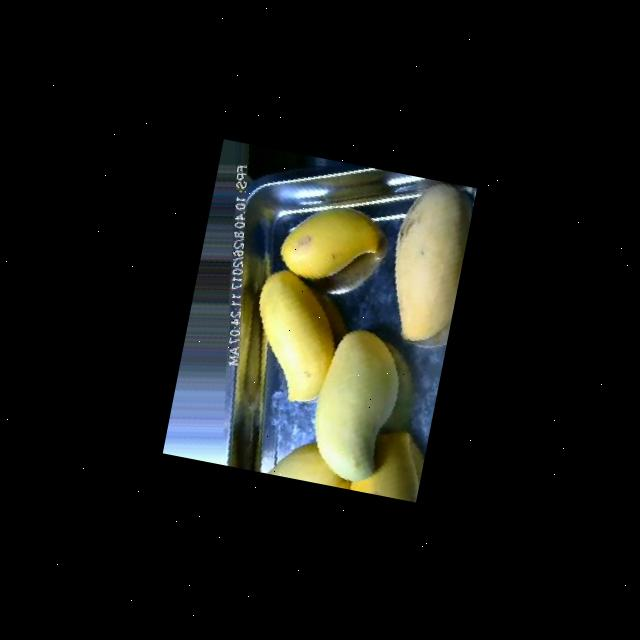Mango: (302, 323, 408, 487), (377, 176, 476, 349), (240, 266, 348, 408), (276, 196, 386, 291), (348, 422, 428, 502), (260, 434, 357, 489)
